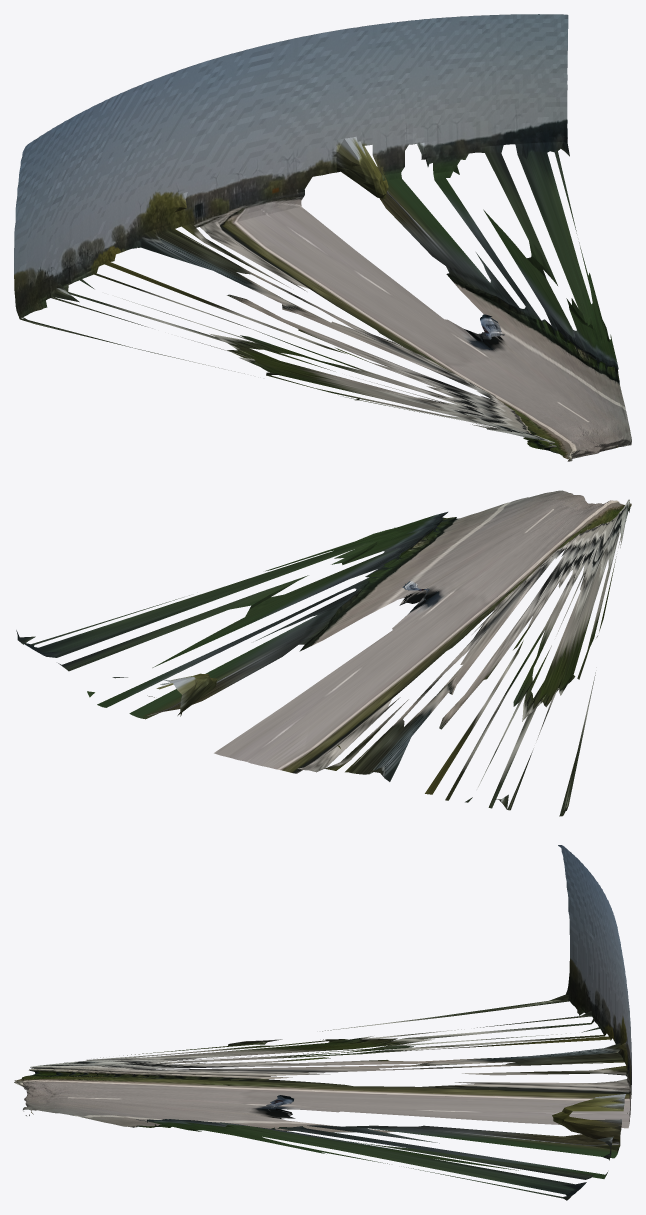
3 views of the same model, one above another, from view 1: azimuth 30°, elevation 25°; view 2: azimuth 150°, elevation 25°; view 3: azimuth 270°, elevation 25° (orthographic). The views are drawn at different scales.
Parts seen in each view (by area): view 1: defaultobject; view 2: defaultobject; view 3: defaultobject.
Part boxes in pixels (x1=…): defaultobject: x1=14, y1=14, x2=631, y2=461; defaultobject: x1=16, y1=490, x2=631, y2=816; defaultobject: x1=14, y1=845, x2=631, y2=1200.
Bounding box in the file's own units: 41.14 × 13.29 × 44.57.
Materials: 1 (1 with a texture image).
